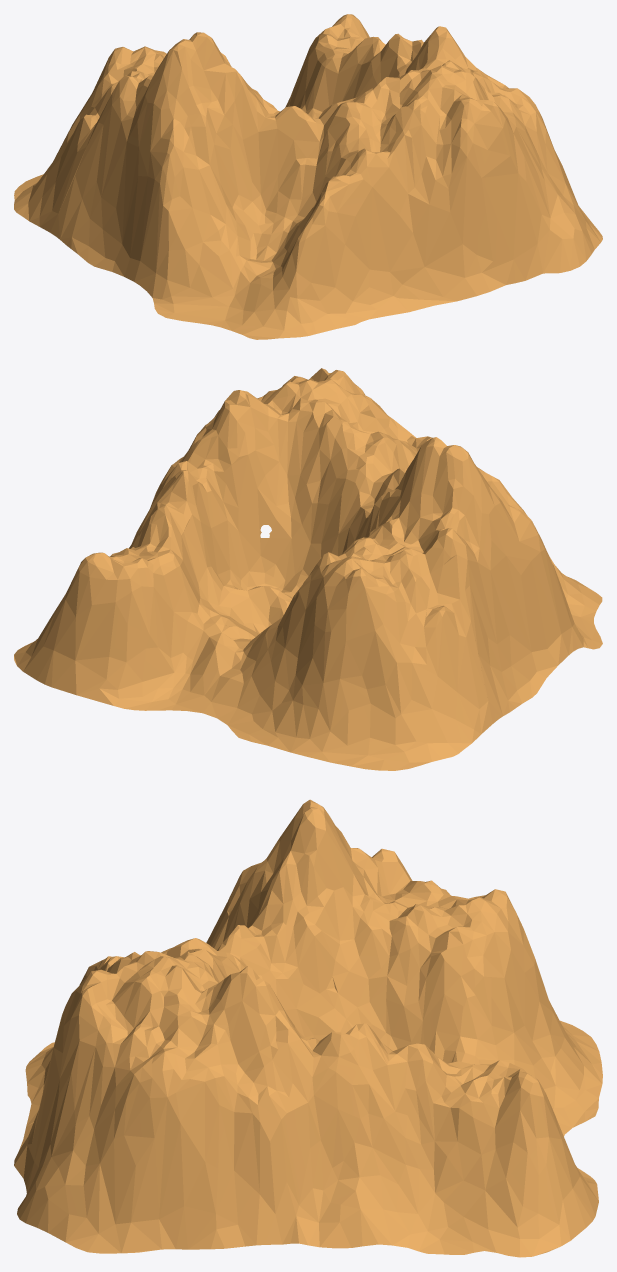
The model's file is Mountain edited 3.fbx.
3 views of the same model, one above another, from view 1: azimuth 30°, elevation 25°; view 2: azimuth 150°, elevation 25°; view 3: azimuth 270°, elevation 25° (orthographic). The views are drawn at different scales.
Parts seen in each view (by area): view 1: Mounting_2; view 2: Mounting_2; view 3: Mounting_2.
Boxes of the visible parts, <box> form: Mounting_2: <box>14,14,602,339</box>; Mounting_2: <box>14,368,602,770</box>; Mounting_2: <box>14,799,602,1257</box>.
Size of the model in its own units: 1969 by 979 by 1962.
